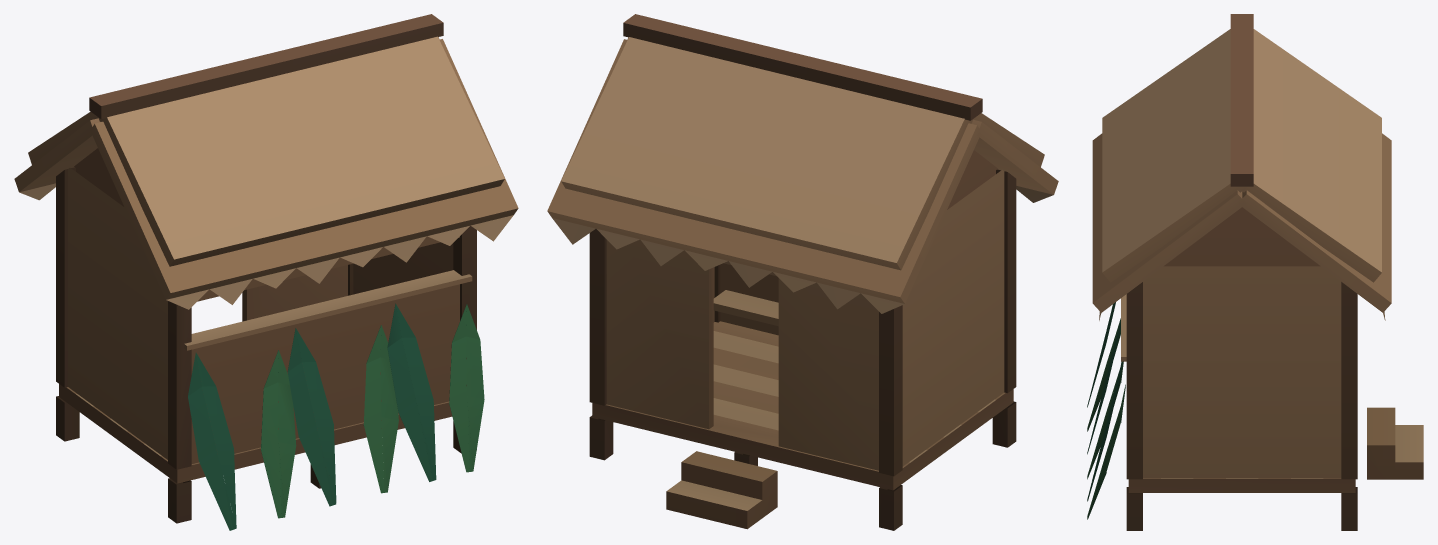
The model's file is custom-observatorio-aves.glb.
3 views of the same model, side by side, from view 1: azimuth 30°, elevation 25°; view 2: azimuth 150°, elevation 25°; view 3: azimuth 270°, elevation 25° (orthographic). The views are drawn at different scales.
Visible parts, largest first — view 1: observatorio-aves; view 2: observatorio-aves; view 3: observatorio-aves.
Boxes of the visible parts, bbox=[...] form: observatorio-aves: bbox=[14, 14, 518, 530]; observatorio-aves: bbox=[547, 14, 1058, 530]; observatorio-aves: bbox=[1087, 14, 1423, 530].
Size of the model in its own units: 6.1 by 6.42 by 5.33.
